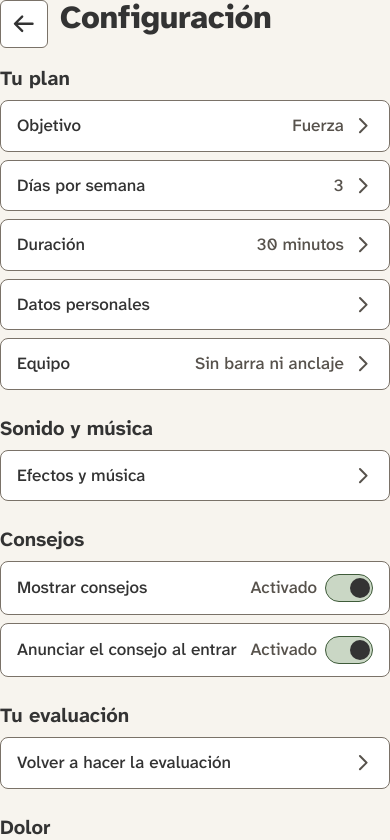
Test: Indice de configuracion › elegir 4 aplica, cierra, actualiza la fila, avisa y devuelve el foco
What coordinates should you click on to do the following:
click the button with class "fila-configuracion" showing "Días por semana 3"
I would click on:
 (81, 184)
Its box is [0,160,389,211].
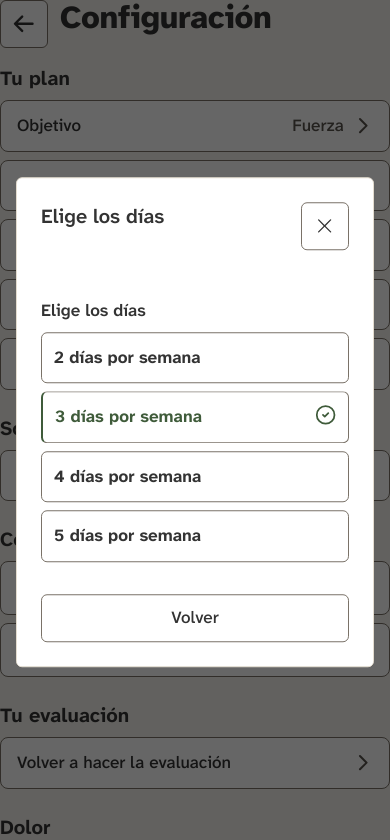
What coordinates should you click on to do the following:
click the radio button labelled "4 días por semana"
I would click on:
 (195, 477)
Its box is [41,451,349,502].
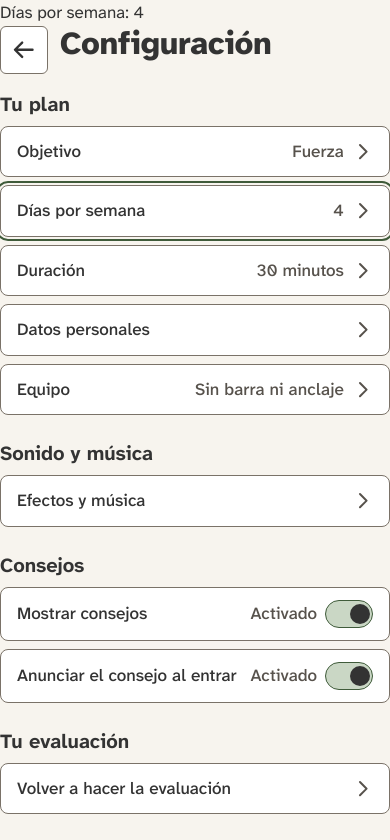
expect the dialog is gone: met
